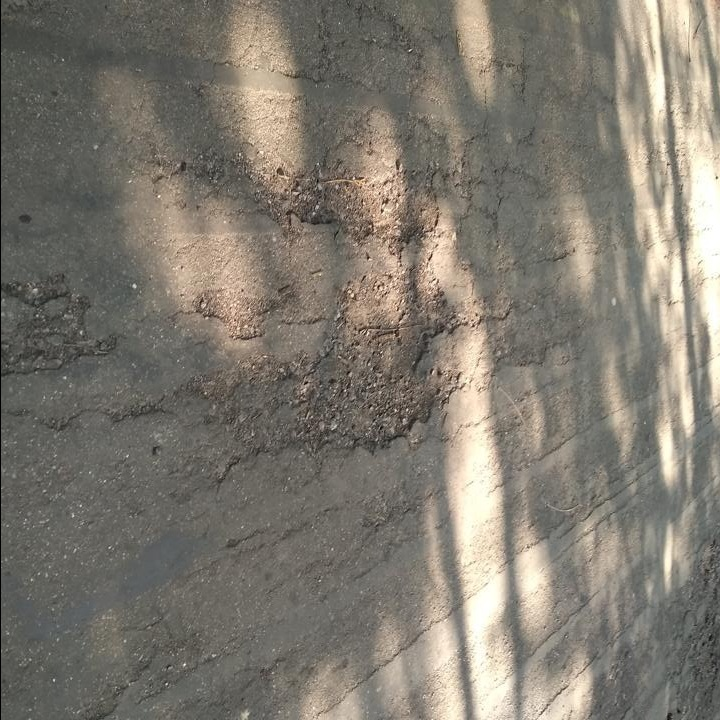pothole: (296, 254, 464, 455), (268, 159, 443, 245)
